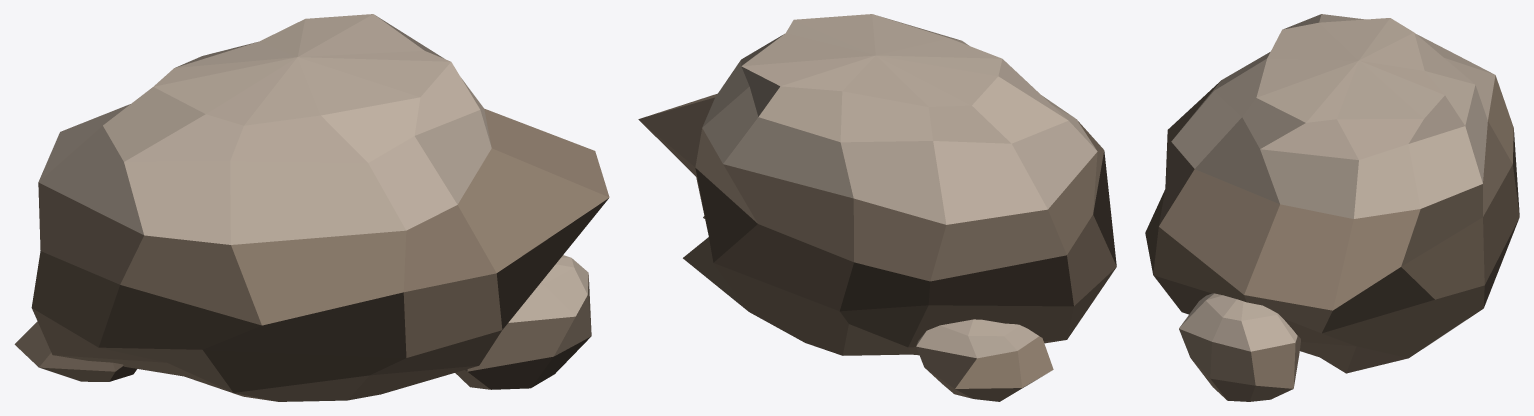
Rendered from RockL.fbx.
3 renders of one model, left to right at view 1: azimuth 30°, elevation 25°; view 2: azimuth 150°, elevation 25°; view 3: azimuth 270°, elevation 25°, orthographic. The views are drawn at different scales.
Visible parts, largest first — view 1: RockL; view 2: RockL; view 3: RockL.
Boxes of the visible parts, bbox=[...] form: RockL: bbox=[14, 14, 609, 401]; RockL: bbox=[638, 14, 1116, 401]; RockL: bbox=[1145, 14, 1519, 401].
Bounding box in the file's own units: 451 × 250 × 322.
